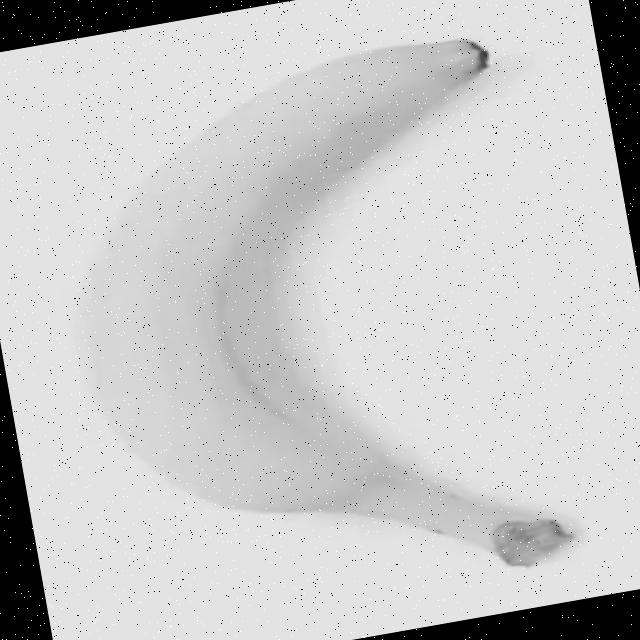banana: (27, 27, 576, 636)
